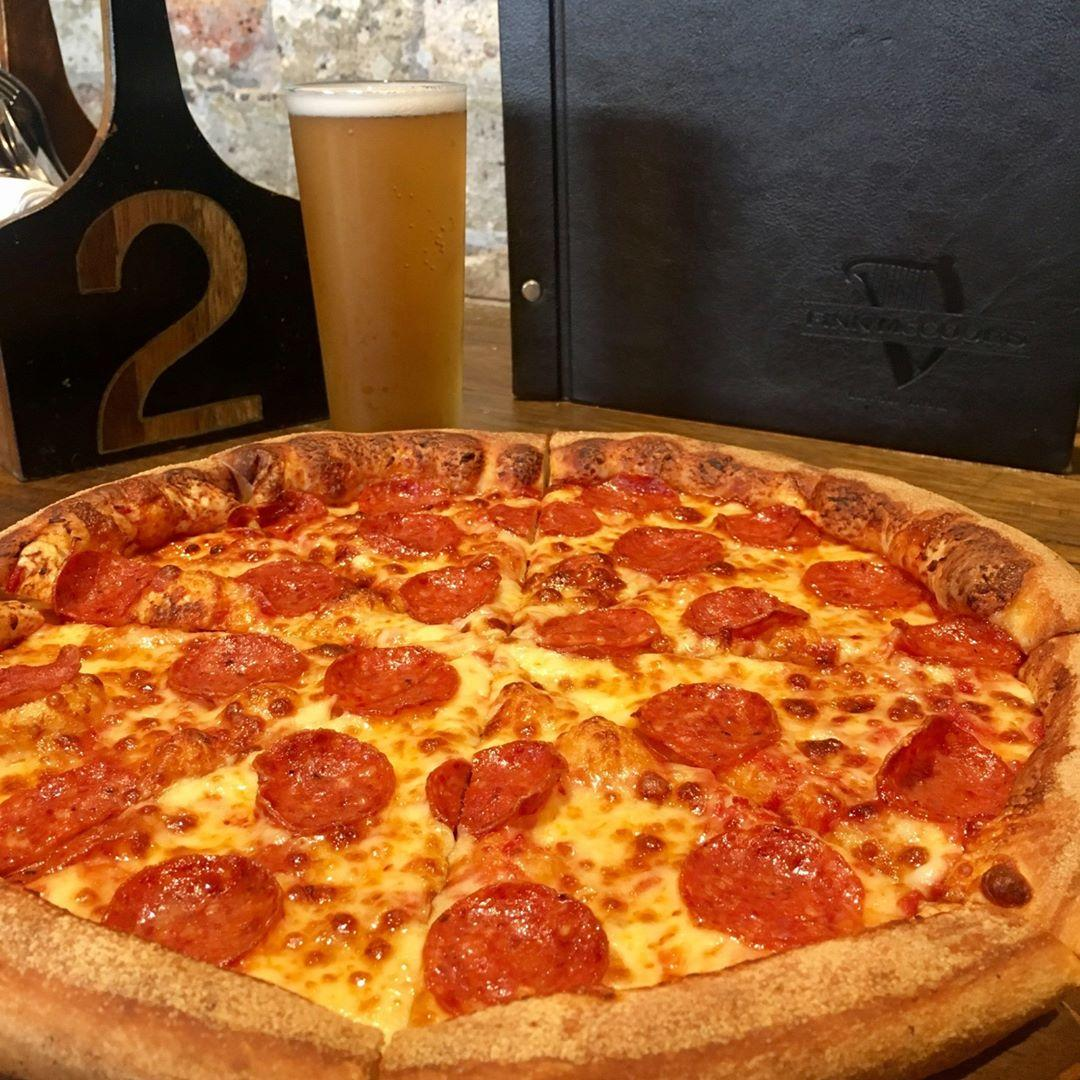Pepperoni: (680, 824, 861, 962), (425, 880, 608, 1016), (105, 855, 284, 983), (871, 717, 1019, 820), (256, 730, 396, 834), (425, 744, 571, 833), (640, 684, 782, 766), (328, 642, 456, 711), (353, 478, 465, 556), (50, 549, 160, 623), (172, 636, 305, 695), (687, 588, 805, 646), (234, 560, 343, 620), (892, 619, 1025, 665), (396, 564, 499, 623), (538, 608, 661, 657), (806, 562, 930, 610), (609, 526, 717, 578), (718, 508, 825, 553), (487, 501, 600, 537), (600, 475, 683, 515)
Pizza: (0, 430, 1080, 1080)
